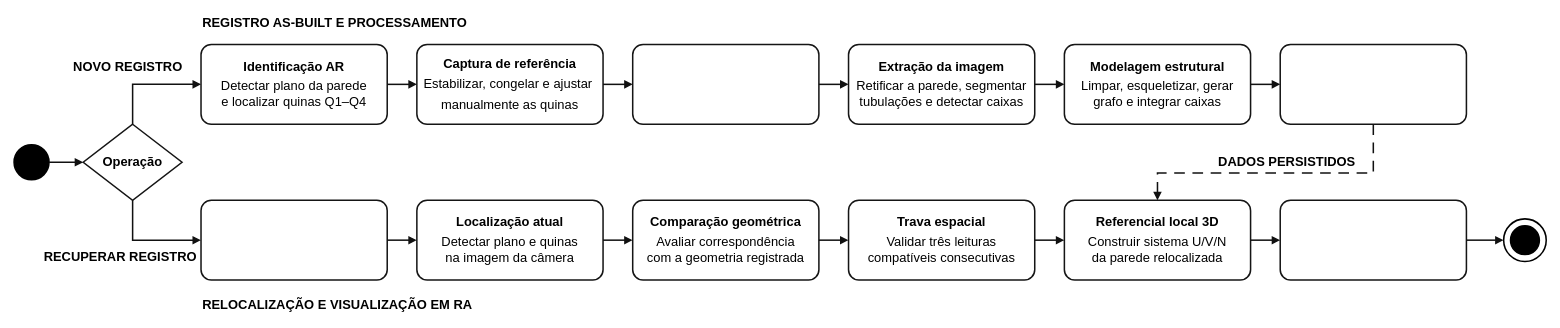
This 1560x328 diagram has some shape labels left out. The shapes that lost their labels are listed below. From the top down, each one's centre as x and y in pixels, then its label:
At [725,84]: "Registro as-built Nomear e salvar imagem e geometria da parede".
At [1373,84]: "Persistência final Normalizar geometria, registrar cores e nomes e arquivo JSON".
At [294,239]: "Selecionar registro Recuperar a imagem e os dados da parede registrada".
At [1373,239]: "Projeção em RA Sobrepor tubulações, caixas, cores e etiquetas".
